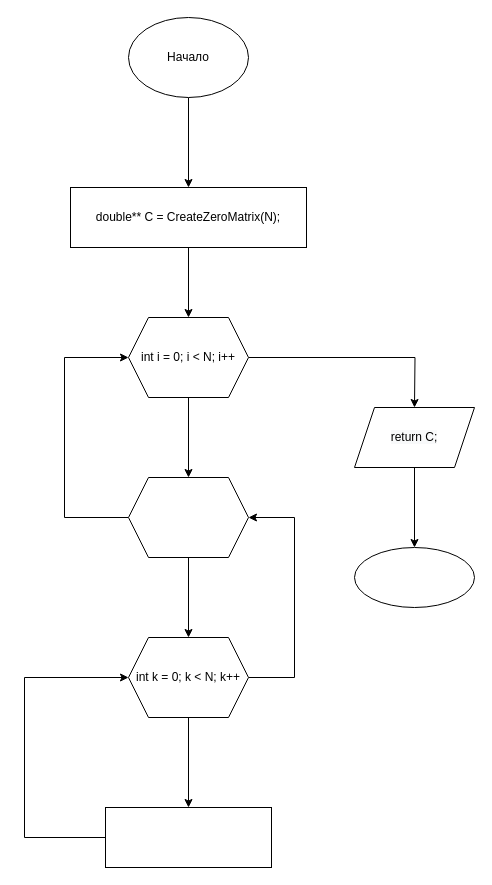
Image size: 492x885. Some labels were removed from this diagram. Here are the shapes that lost their labels. From the top down, the centre of each, then its label:
At (x=188, y=517): "int j = 0; j < N; j++".
At (x=414, y=577): "Конец".
At (x=188, y=837): "C[i][j] += A[i][k] * B[k][j];".
